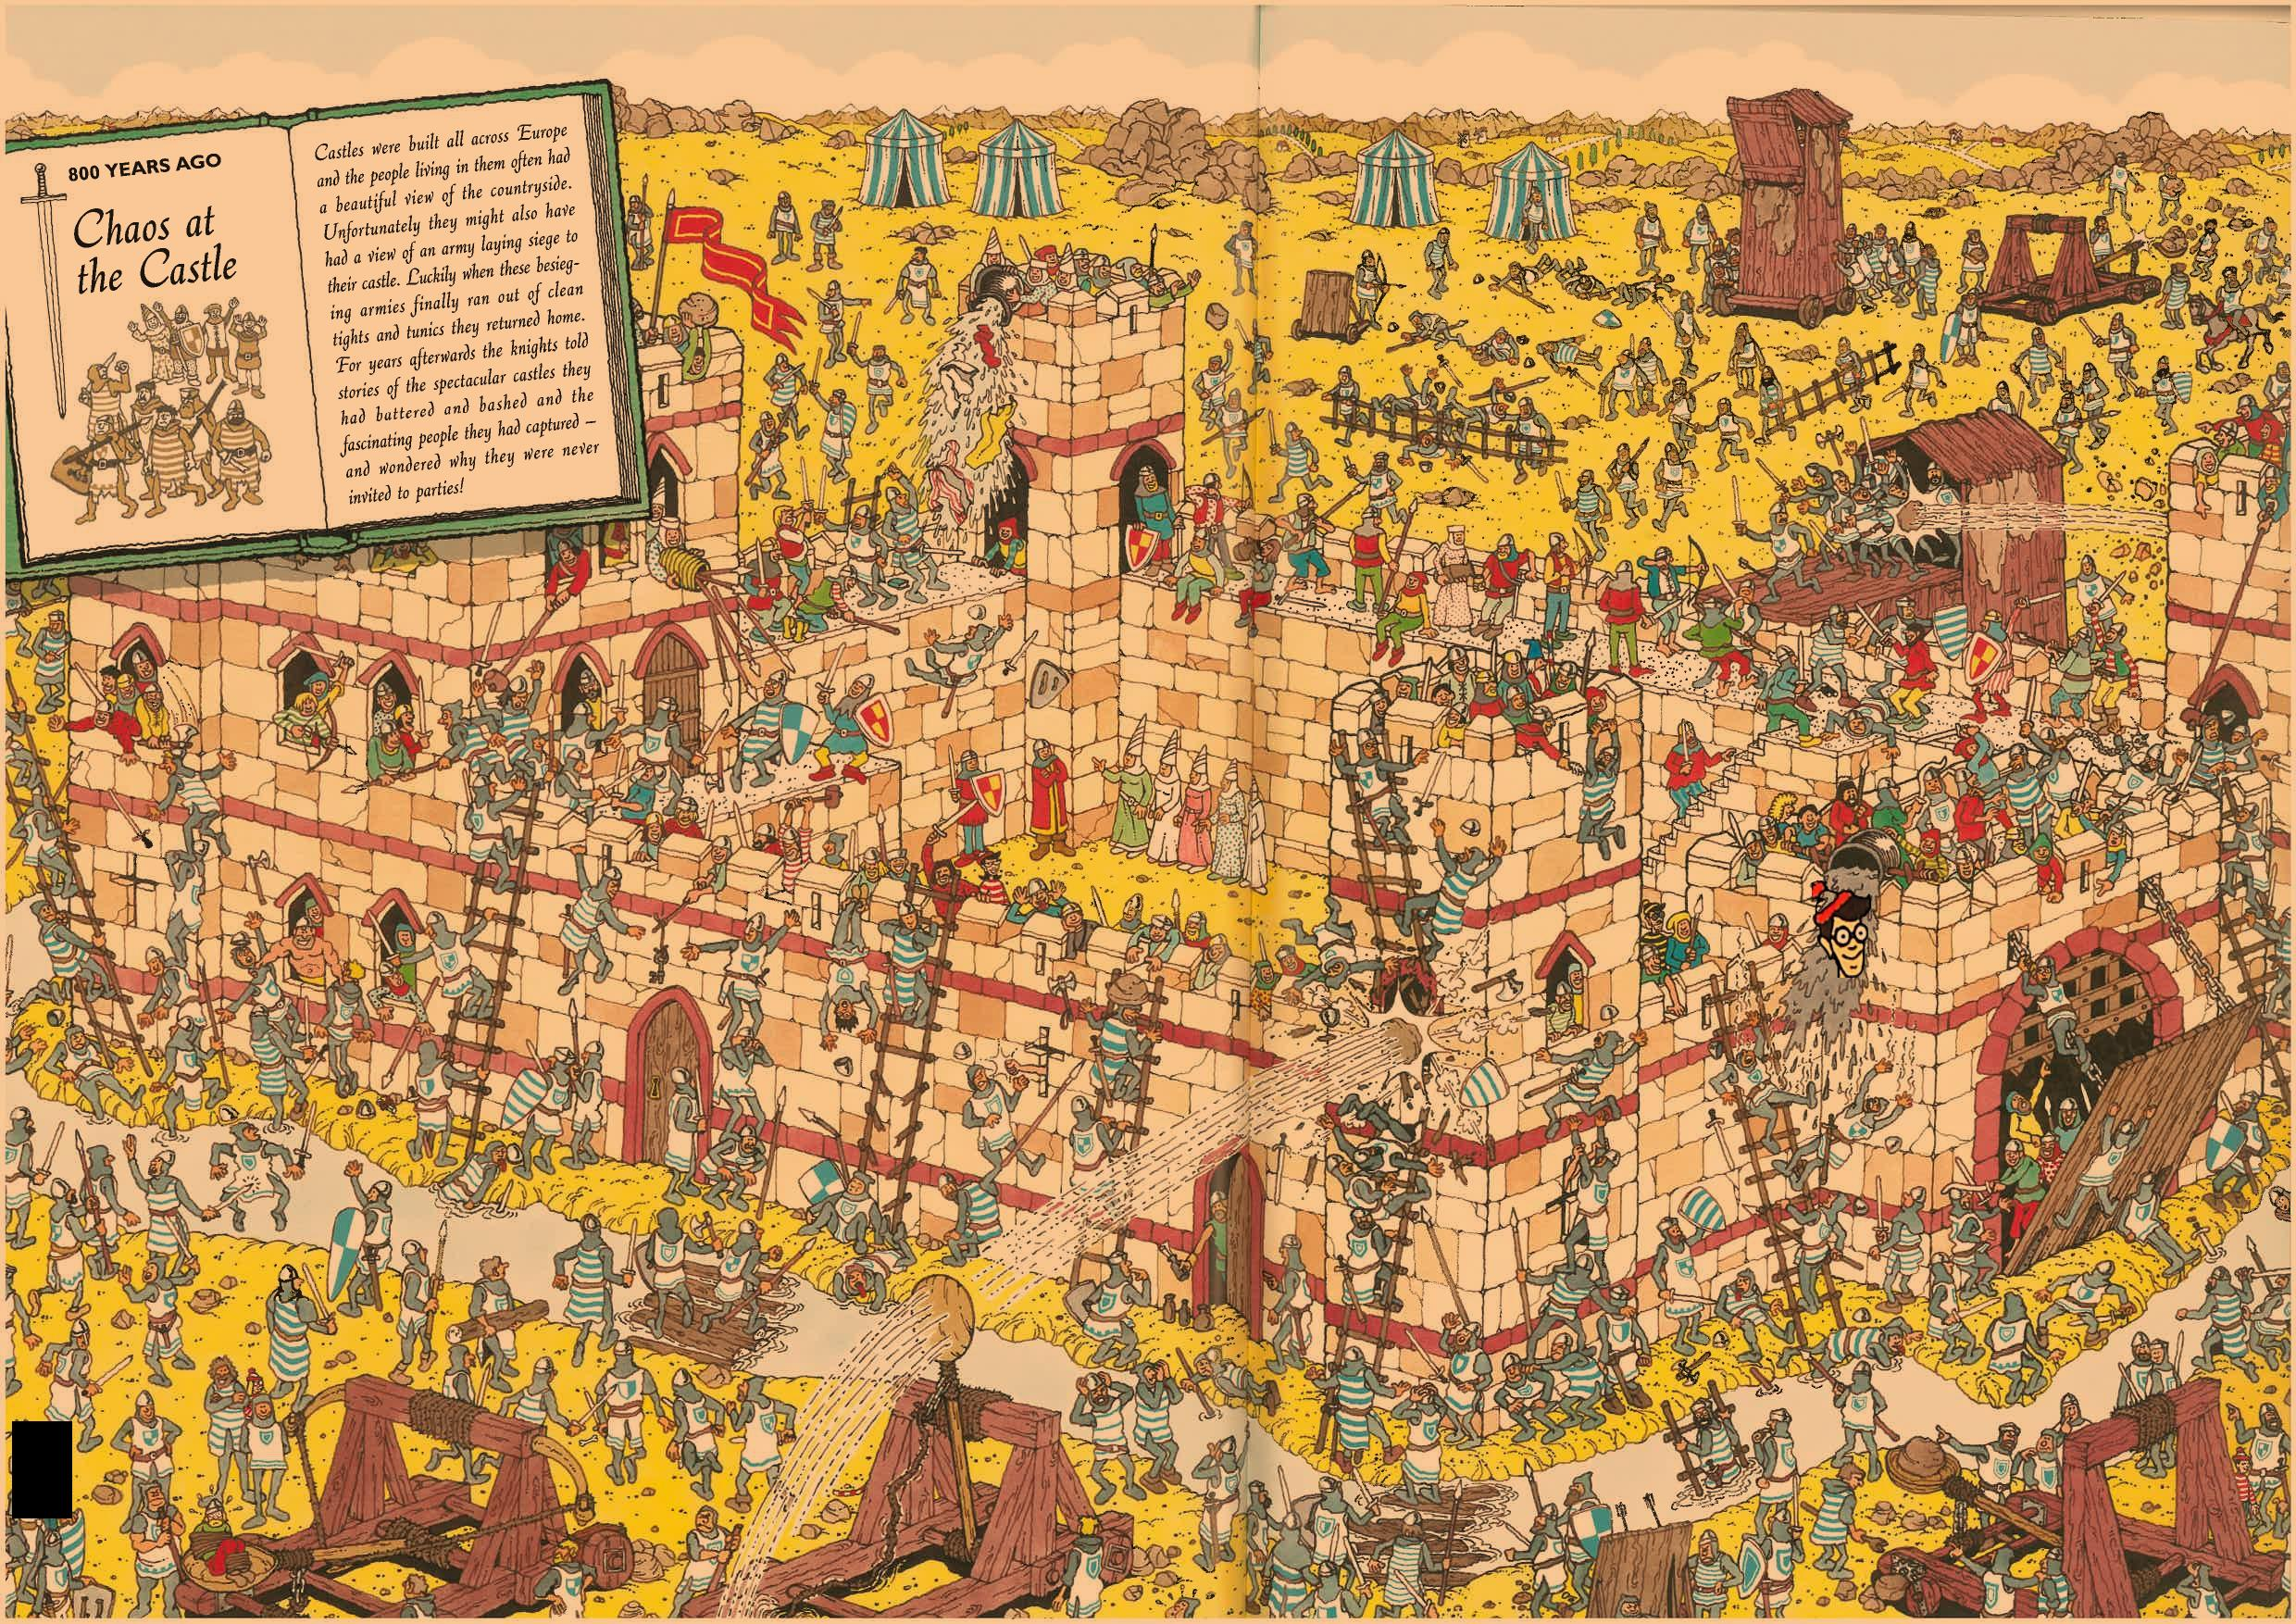waldos: (1811, 881, 1873, 977)
